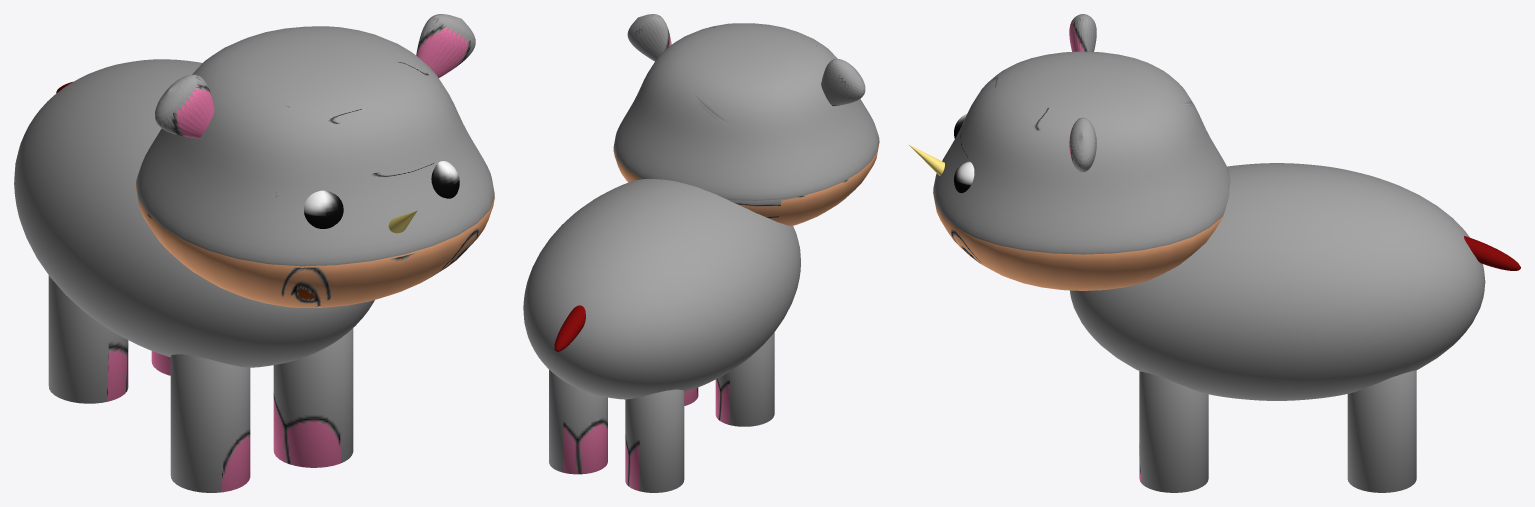
The model's file is rhino (1).fbx.
3 renders of one model, left to right at view 1: azimuth 30°, elevation 25°; view 2: azimuth 150°, elevation 25°; view 3: azimuth 270°, elevation 25°, orthographic. The views are drawn at different scales.
Visible parts, largest first — view 1: Cube, Sphère.001, Cylindre.002, Cube.001, Cylindre.001, Cône, Sphère; view 2: Sphère.001, Cube, Cylindre.001, Cylindre.002, Cône, Cube.001, Sphère.002; view 3: Sphère.001, Cube, Cube.001, Cylindre.001, Cylindre.002, Cône, Sphère.002.
Part boxes in pixels (x1,y1,x2,y2): Cube: (136,26,494,266); Sphère.001: (14,59,374,367); Cylindre.002: (170,328,353,492); Cube.001: (135,186,494,307); Cylindre.001: (48,275,170,403); Cône: (155,14,475,138); Sphère: (304,161,459,228); Sphère.001: (523,179,800,399); Cube: (613,23,879,200); Cylindre.001: (549,370,684,492); Cylindre.002: (684,332,774,426); Cône: (627,14,865,106); Cube.001: (613,141,879,225); Sphère.002: (554,305,585,351); Sphère.001: (1069,163,1485,400); Cube: (933,51,1230,254); Cube.001: (933,192,1223,290); Cylindre.001: (1347,370,1416,492); Cylindre.002: (1139,371,1208,492); Cône: (1069,14,1096,172); Sphère.002: (1464,236,1520,270).
Bounding box in the file's own units: 113 × 155 × 221.
